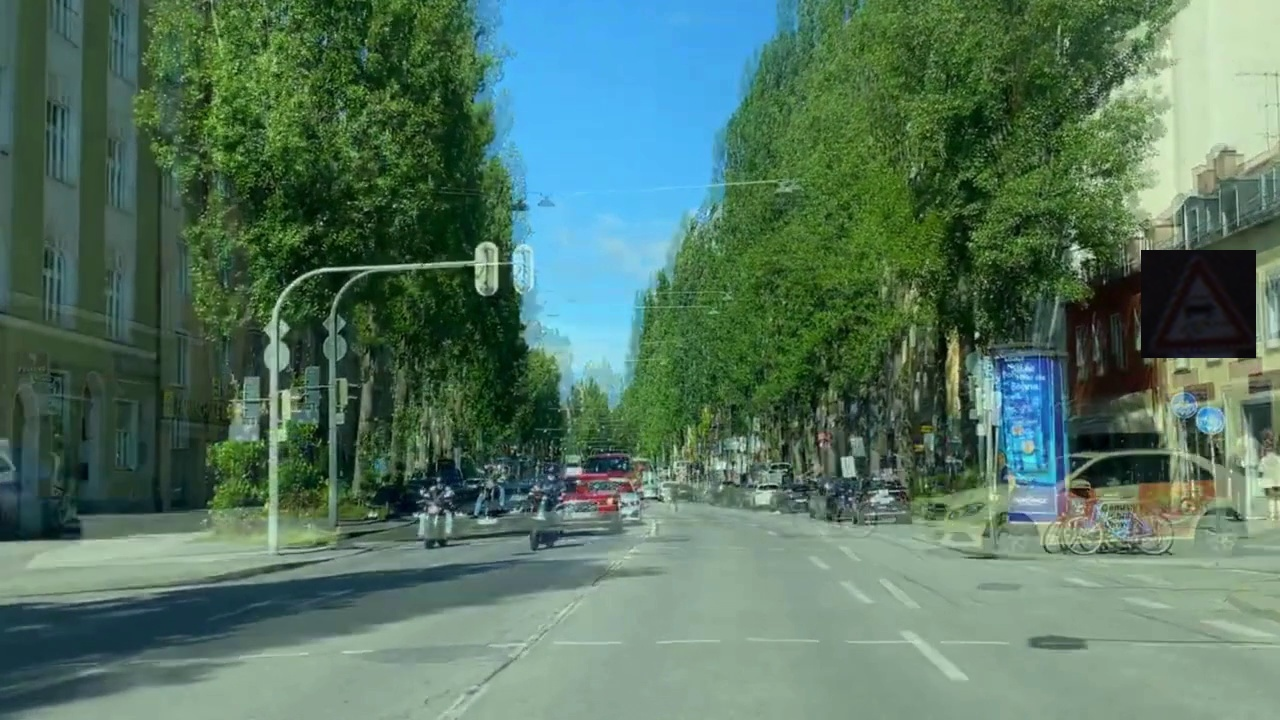Slippery: (1141, 250, 1256, 358)
